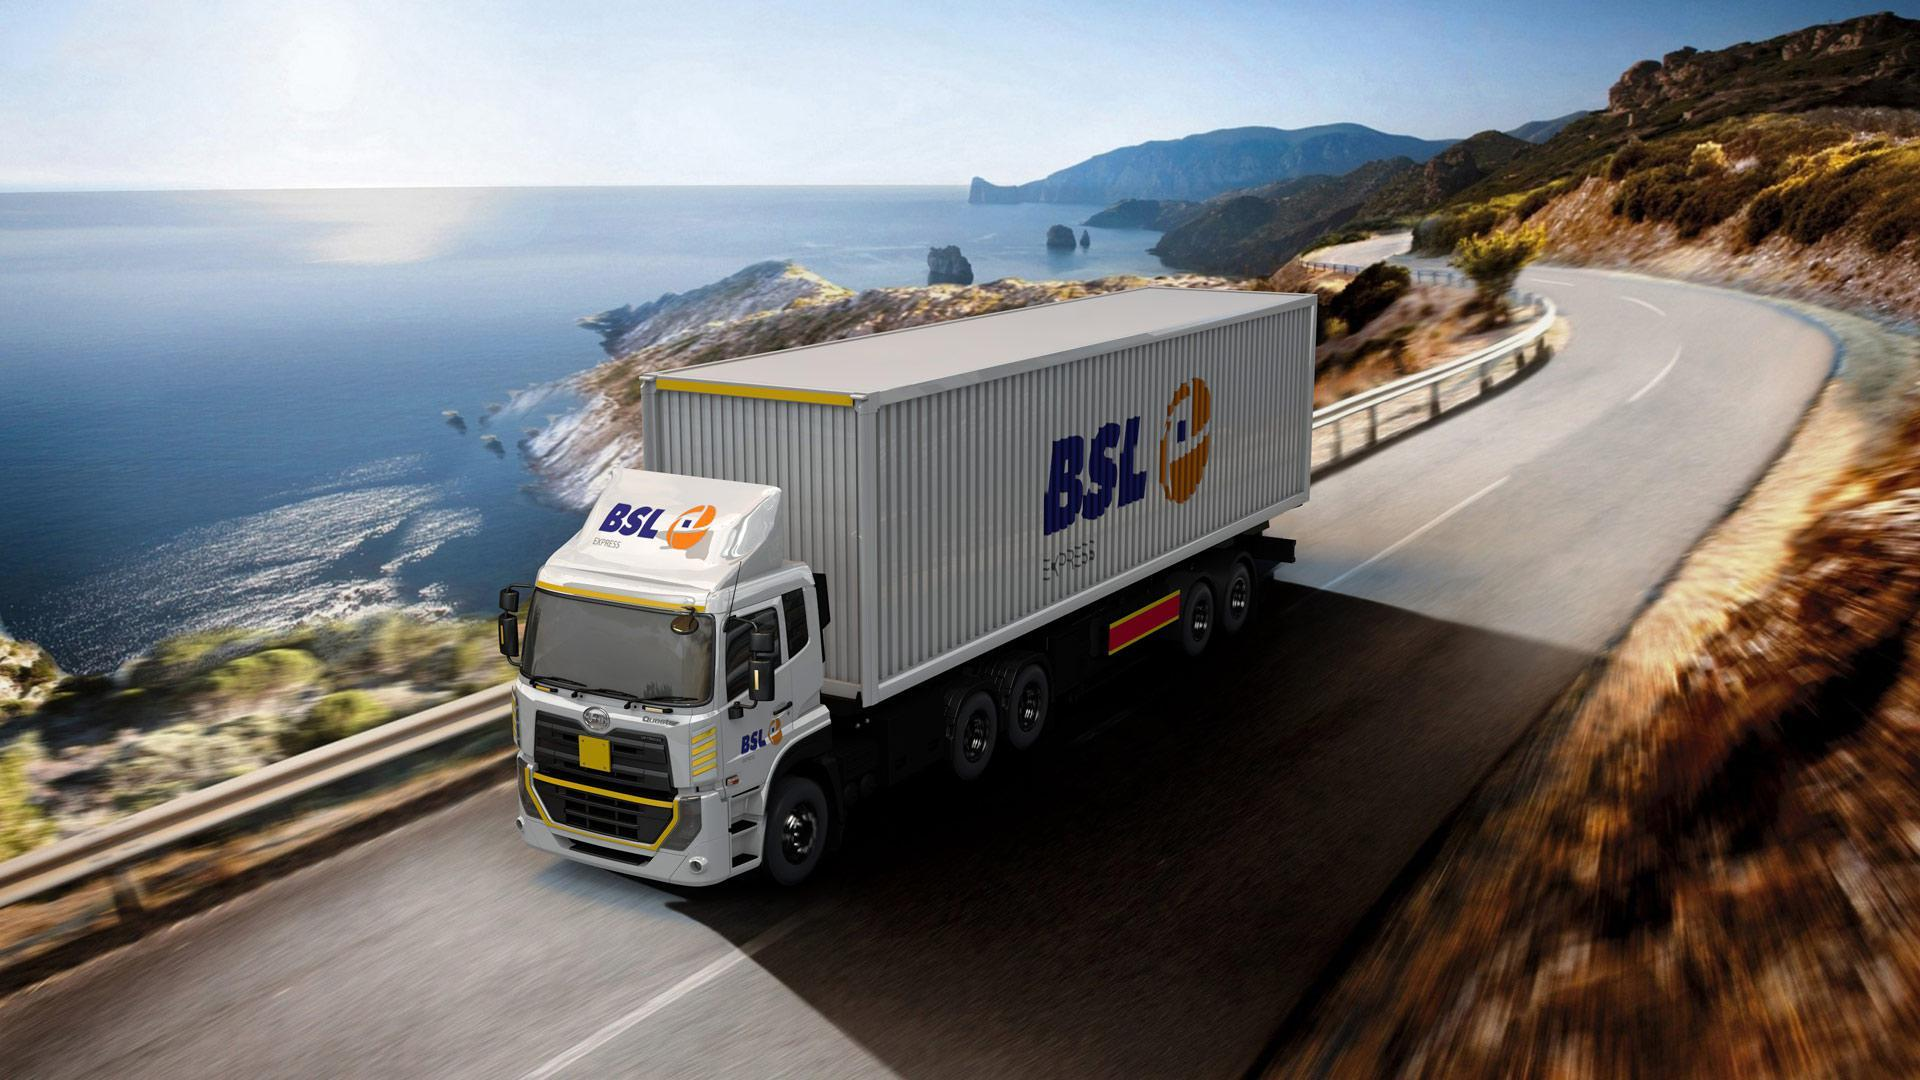Truck: (513, 290, 1319, 897)
